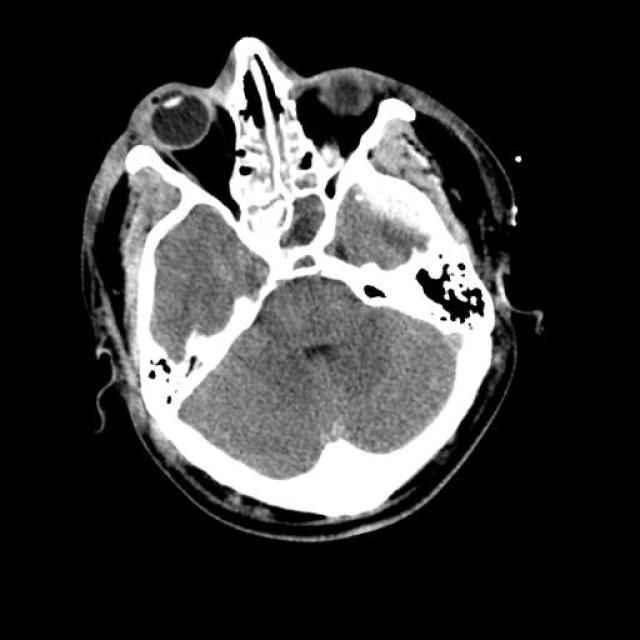Subdural: (341, 156, 454, 256)
